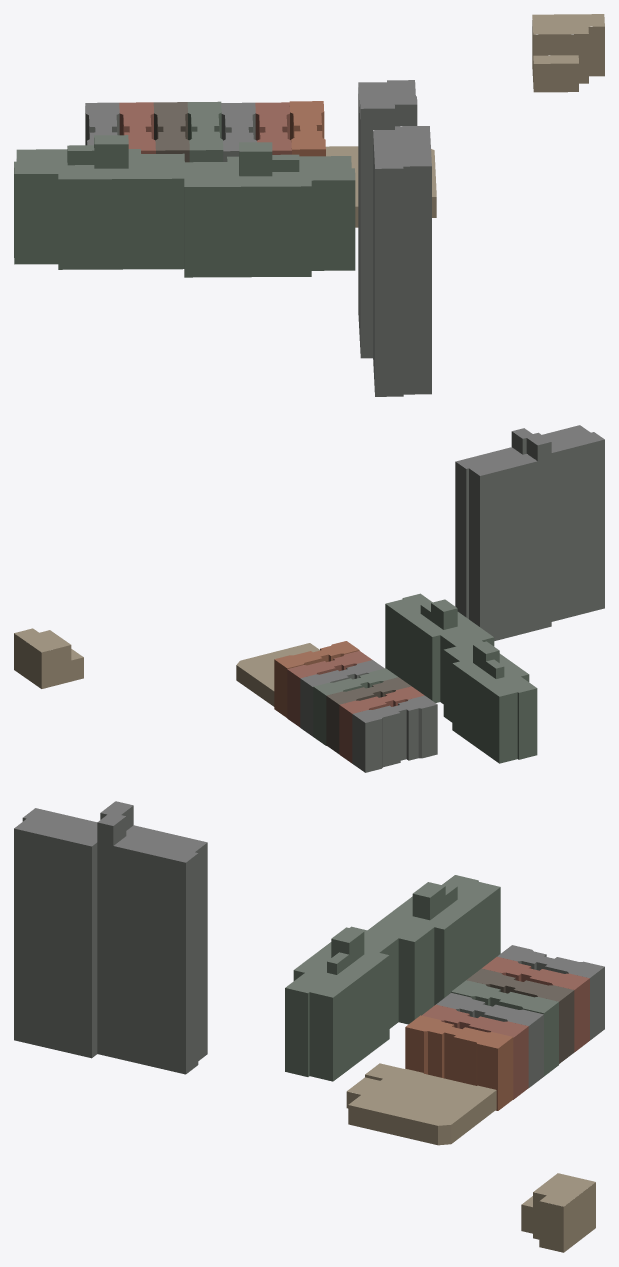
File: tile-9_1.glb
The picture shows the model from 3 angles, top to bottom: view 1: azimuth 30°, elevation 25°; view 2: azimuth 150°, elevation 25°; view 3: azimuth 270°, elevation 25°; orthographic projection. The views are drawn at different scales.
Parts seen in each view (by area): view 1: wall, roof; view 2: wall, roof; view 3: wall, roof.
Boxes of the visible parts, x1,y1,x2,y2 form: wall: (14, 20, 604, 396); roof: (14, 14, 604, 206); wall: (14, 431, 604, 772); roof: (14, 425, 604, 722); wall: (14, 805, 604, 1252); roof: (14, 801, 604, 1207).
Size of the model in its own units: 181 by 67.43 by 154.
